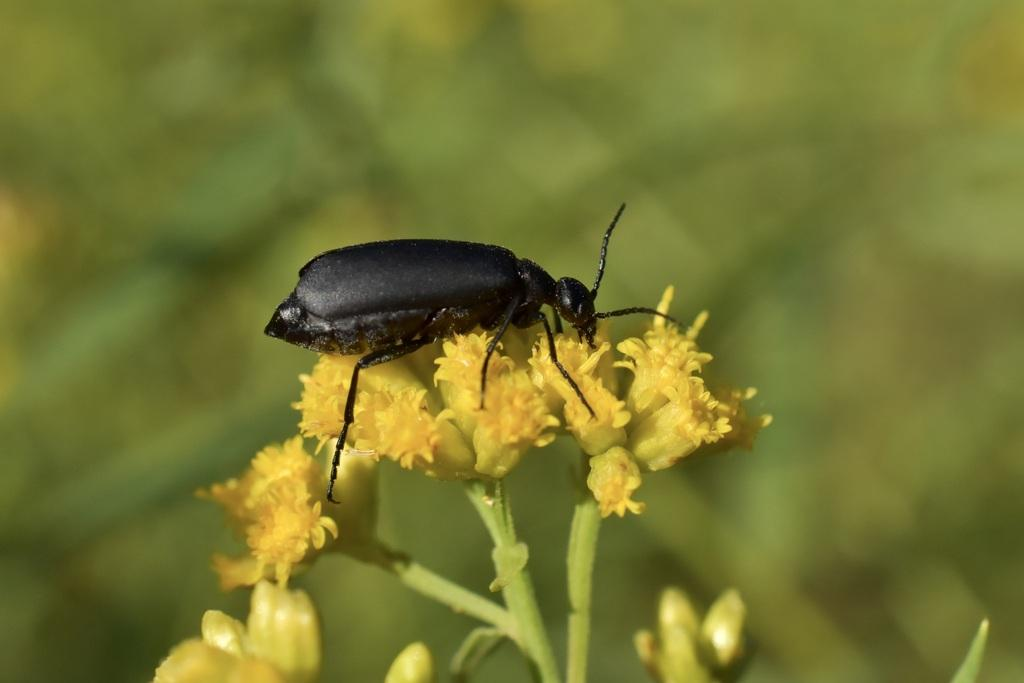blister_beetle: (205, 155, 729, 528)
